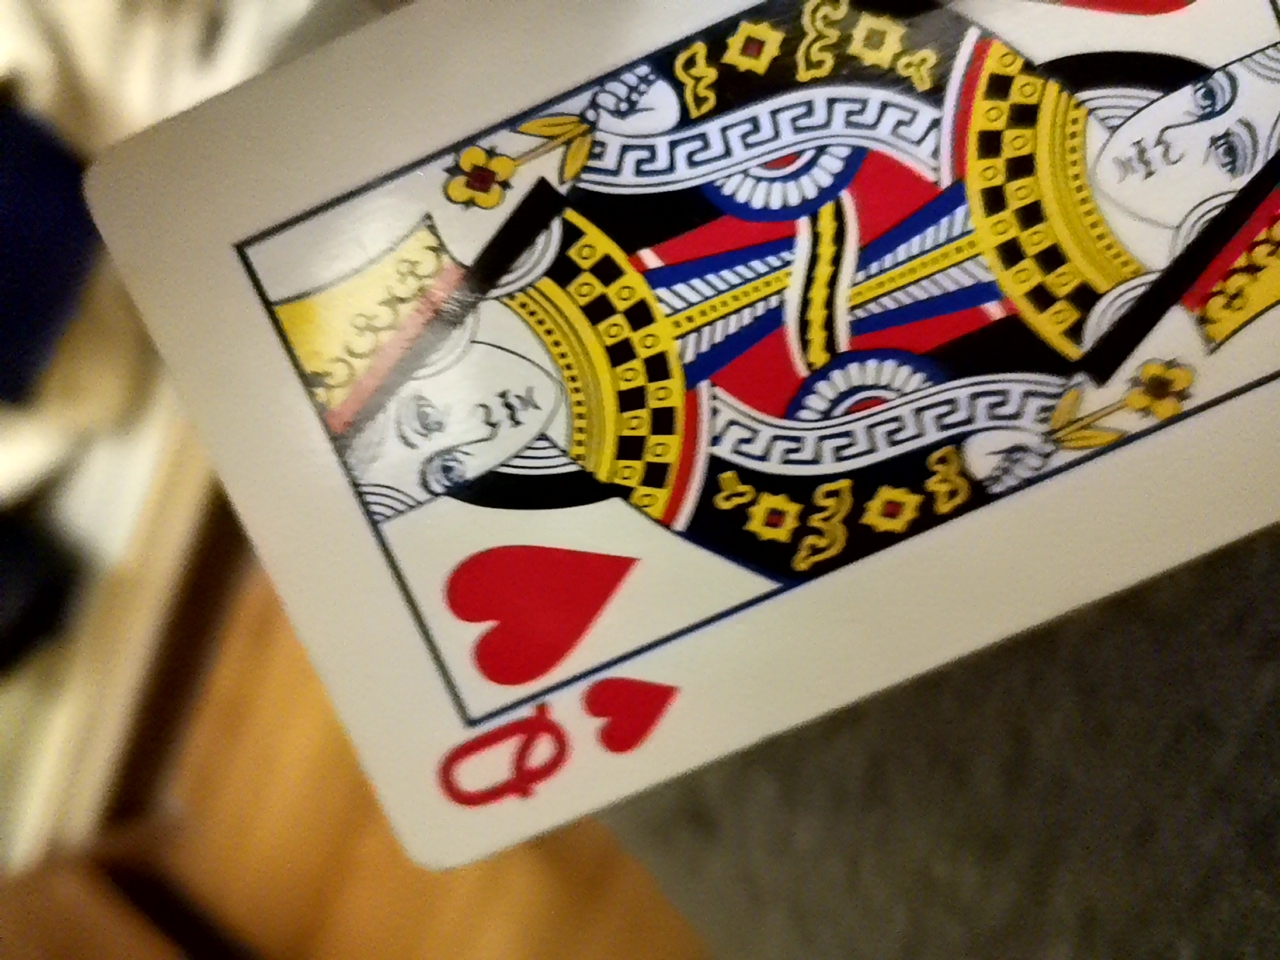hx q: (241, 6, 1272, 869)
